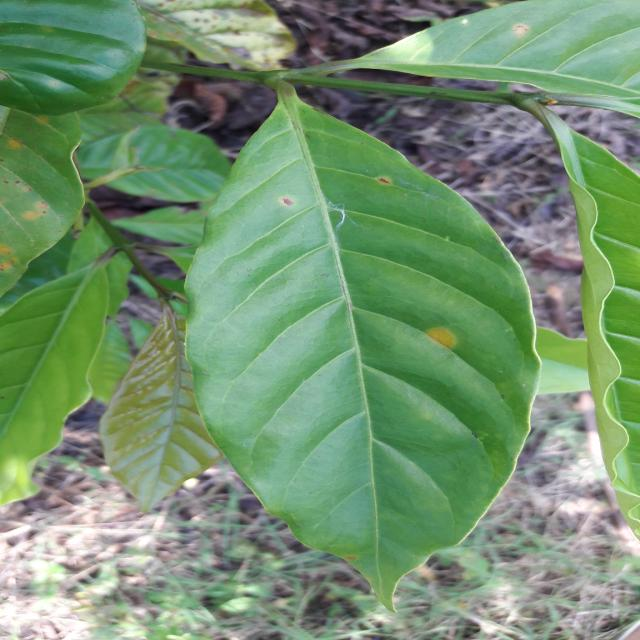Enfermedad-Roya: (185, 89, 541, 608)
